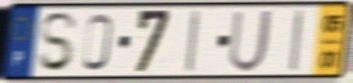0: (82, 12, 115, 73)
7: (134, 8, 173, 76)
I: (287, 7, 306, 75), (183, 8, 202, 75)
S: (36, 10, 80, 75)
U: (226, 8, 275, 75)
